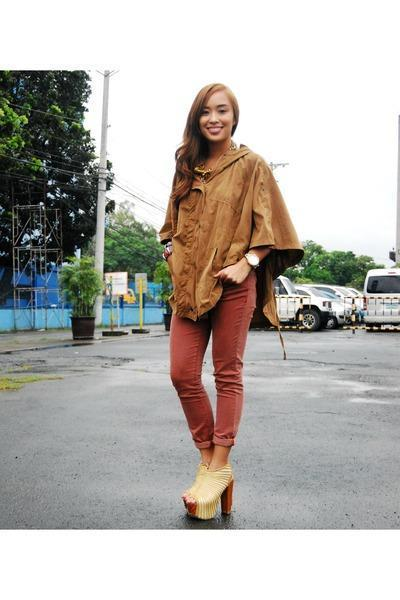jacket: (156, 140, 300, 334)
pants: (170, 276, 263, 455)
shoe: (180, 460, 233, 529)
